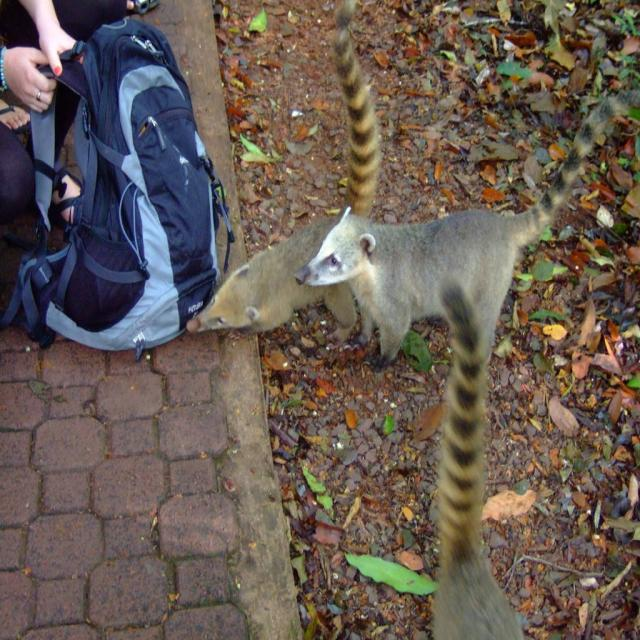backpack: (14, 21, 227, 343)
